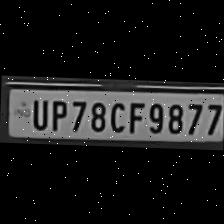7: (200, 99, 222, 134), (66, 95, 86, 131), (183, 98, 203, 134)
8: (86, 96, 108, 132), (164, 99, 184, 134)
9: (145, 98, 165, 133)
C: (106, 96, 126, 132)
F: (125, 97, 144, 132)
P: (46, 96, 68, 130)
U: (27, 94, 49, 129)
